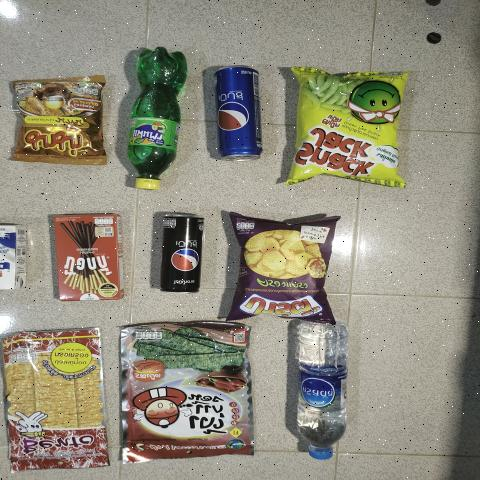bento_red: (8, 328, 100, 470)
crystal: (296, 314, 350, 462)
fanta_green: (126, 42, 184, 190)
mama: (9, 86, 110, 163)
party_purple: (232, 221, 326, 313)
pepsi_black: (158, 210, 206, 294)
pepsi_blue: (210, 59, 267, 165)
pokki: (58, 213, 118, 299)
snack_jack: (286, 77, 396, 180)
taokaenoi: (129, 320, 249, 462)
